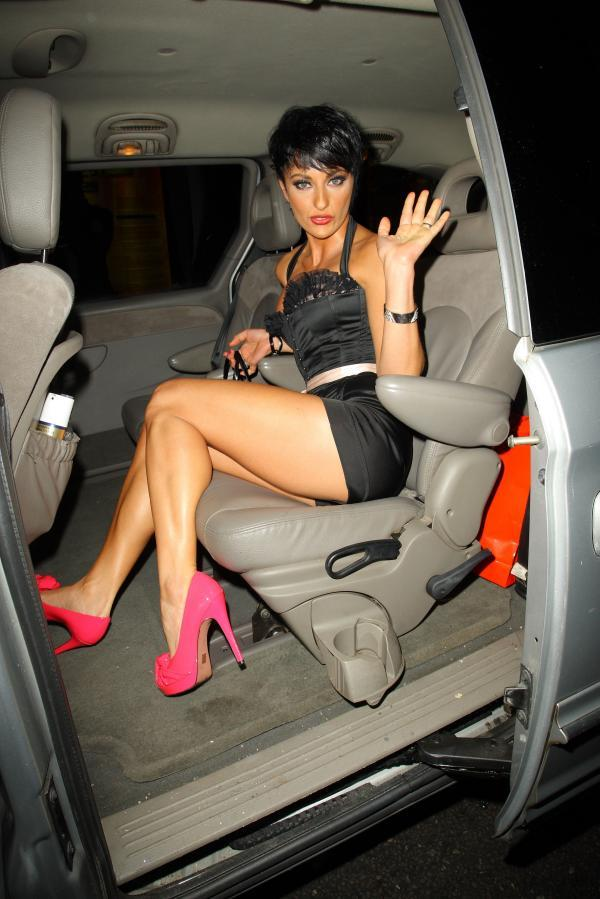person: (33, 110, 452, 693)
